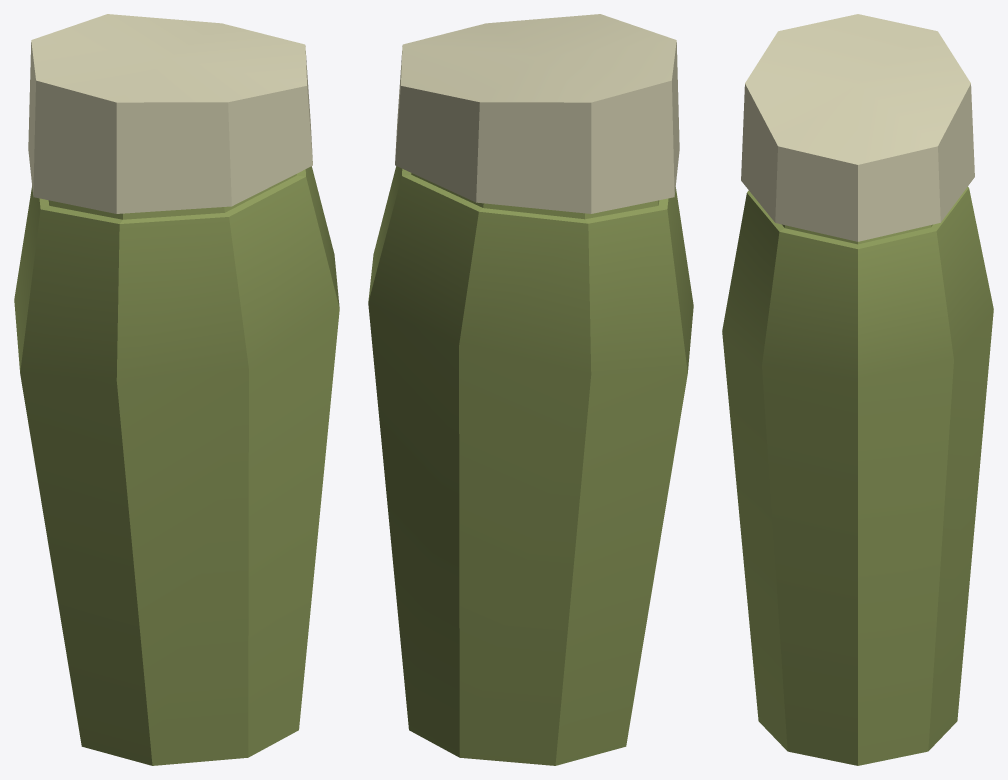
Rendered from Bathroom_WashingBottle.fbx.
The picture shows the model from 3 angles, left to right: view 1: azimuth 30°, elevation 25°; view 2: azimuth 150°, elevation 25°; view 3: azimuth 270°, elevation 25°; orthographic projection. The views are drawn at different scales.
Parts seen in each view (by area): view 1: pCylinder17; view 2: pCylinder17; view 3: pCylinder17.
Part boxes in pixels (left/top/right/bottom): pCylinder17: left=14, top=14, right=339, bottom=765; pCylinder17: left=368, top=14, right=693, bottom=765; pCylinder17: left=722, top=14, right=993, bottom=765.
Bounding box in the file's own units: 1.03 × 2.11 × 0.8194.
